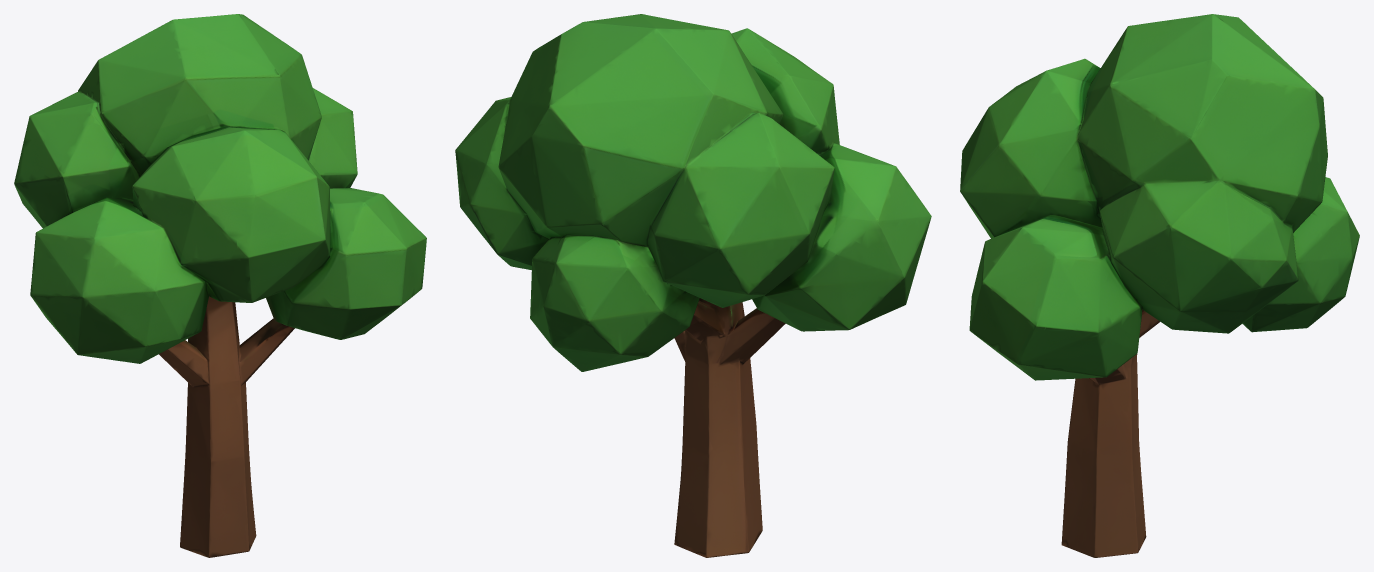
File: oak_tree.glb
3 views of the same model, side by side, from view 1: azimuth 30°, elevation 25°; view 2: azimuth 150°, elevation 25°; view 3: azimuth 270°, elevation 25° (orthographic). The views are drawn at different scales.
Parts seen in each view (by area): view 1: node_0; view 2: node_0; view 3: node_0.
Part boxes in pixels (<box>): node_0: <box>14,14,426,557</box>; node_0: <box>455,14,931,557</box>; node_0: <box>960,14,1359,557</box>.
Size of the model in its own units: 0.8775 by 1.15 by 0.7857.
1 material, 1 textured.
